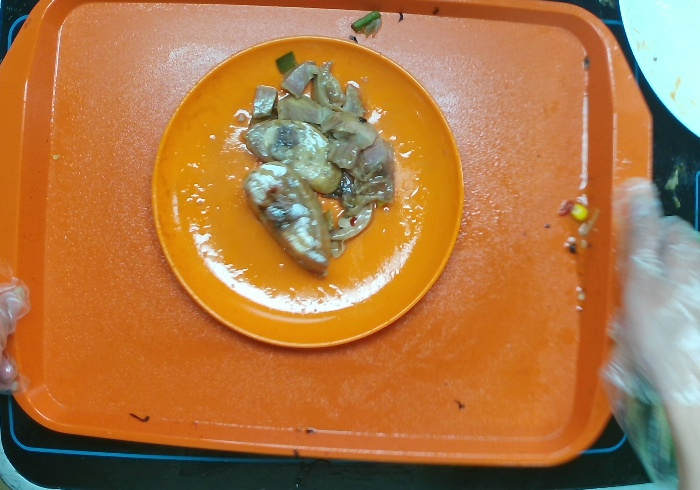HZYJPL-Ju_Huang_Yuan_Pan: (141, 24, 484, 363)
